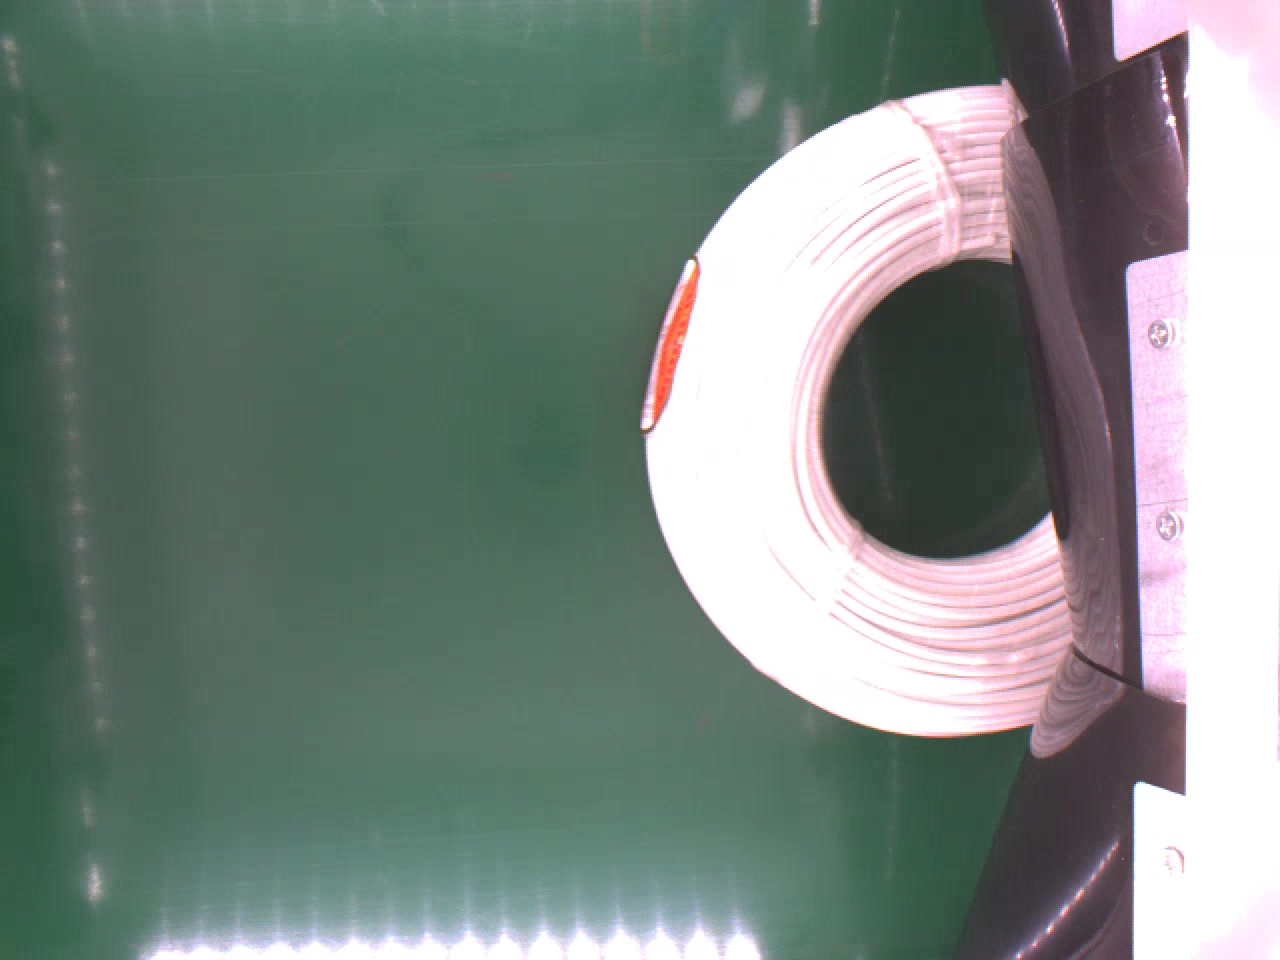white: (638, 78, 1082, 739)
